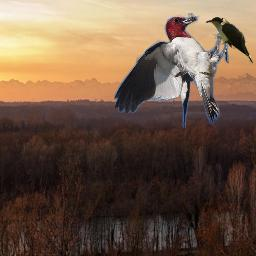Cuckoo: (205, 17, 253, 64)
Woodpecker: (114, 13, 229, 128)
